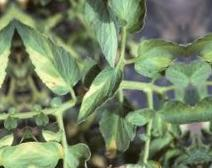Tomato mold leaf: (14, 11, 83, 103), (65, 66, 129, 129), (95, 100, 142, 167), (127, 36, 189, 82), (104, 0, 149, 41), (27, 132, 60, 168)
